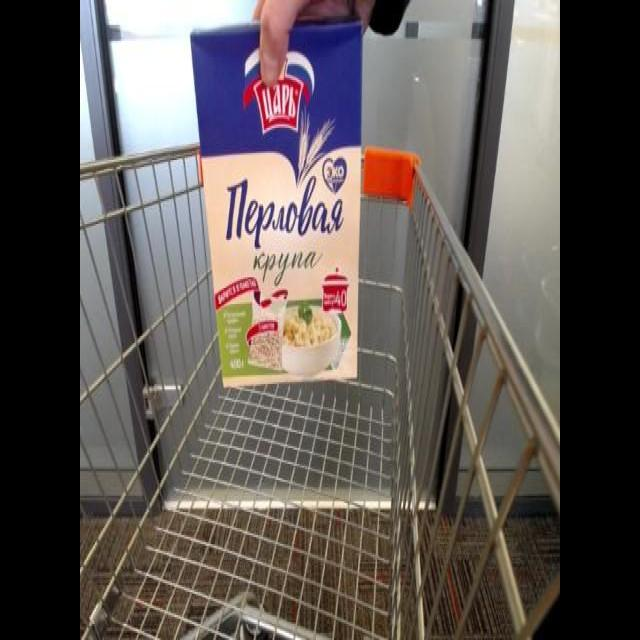Groats: (187, 9, 368, 396)
